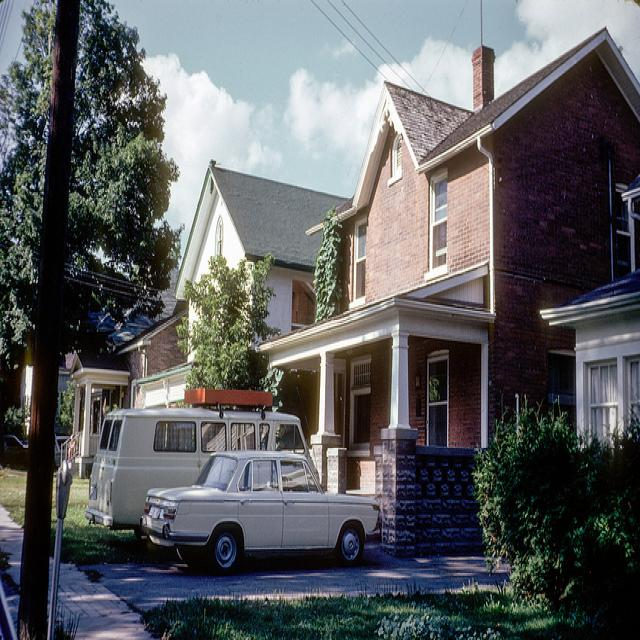Vehicle: (86, 389, 310, 526), (142, 456, 376, 572), (0, 434, 29, 470)
